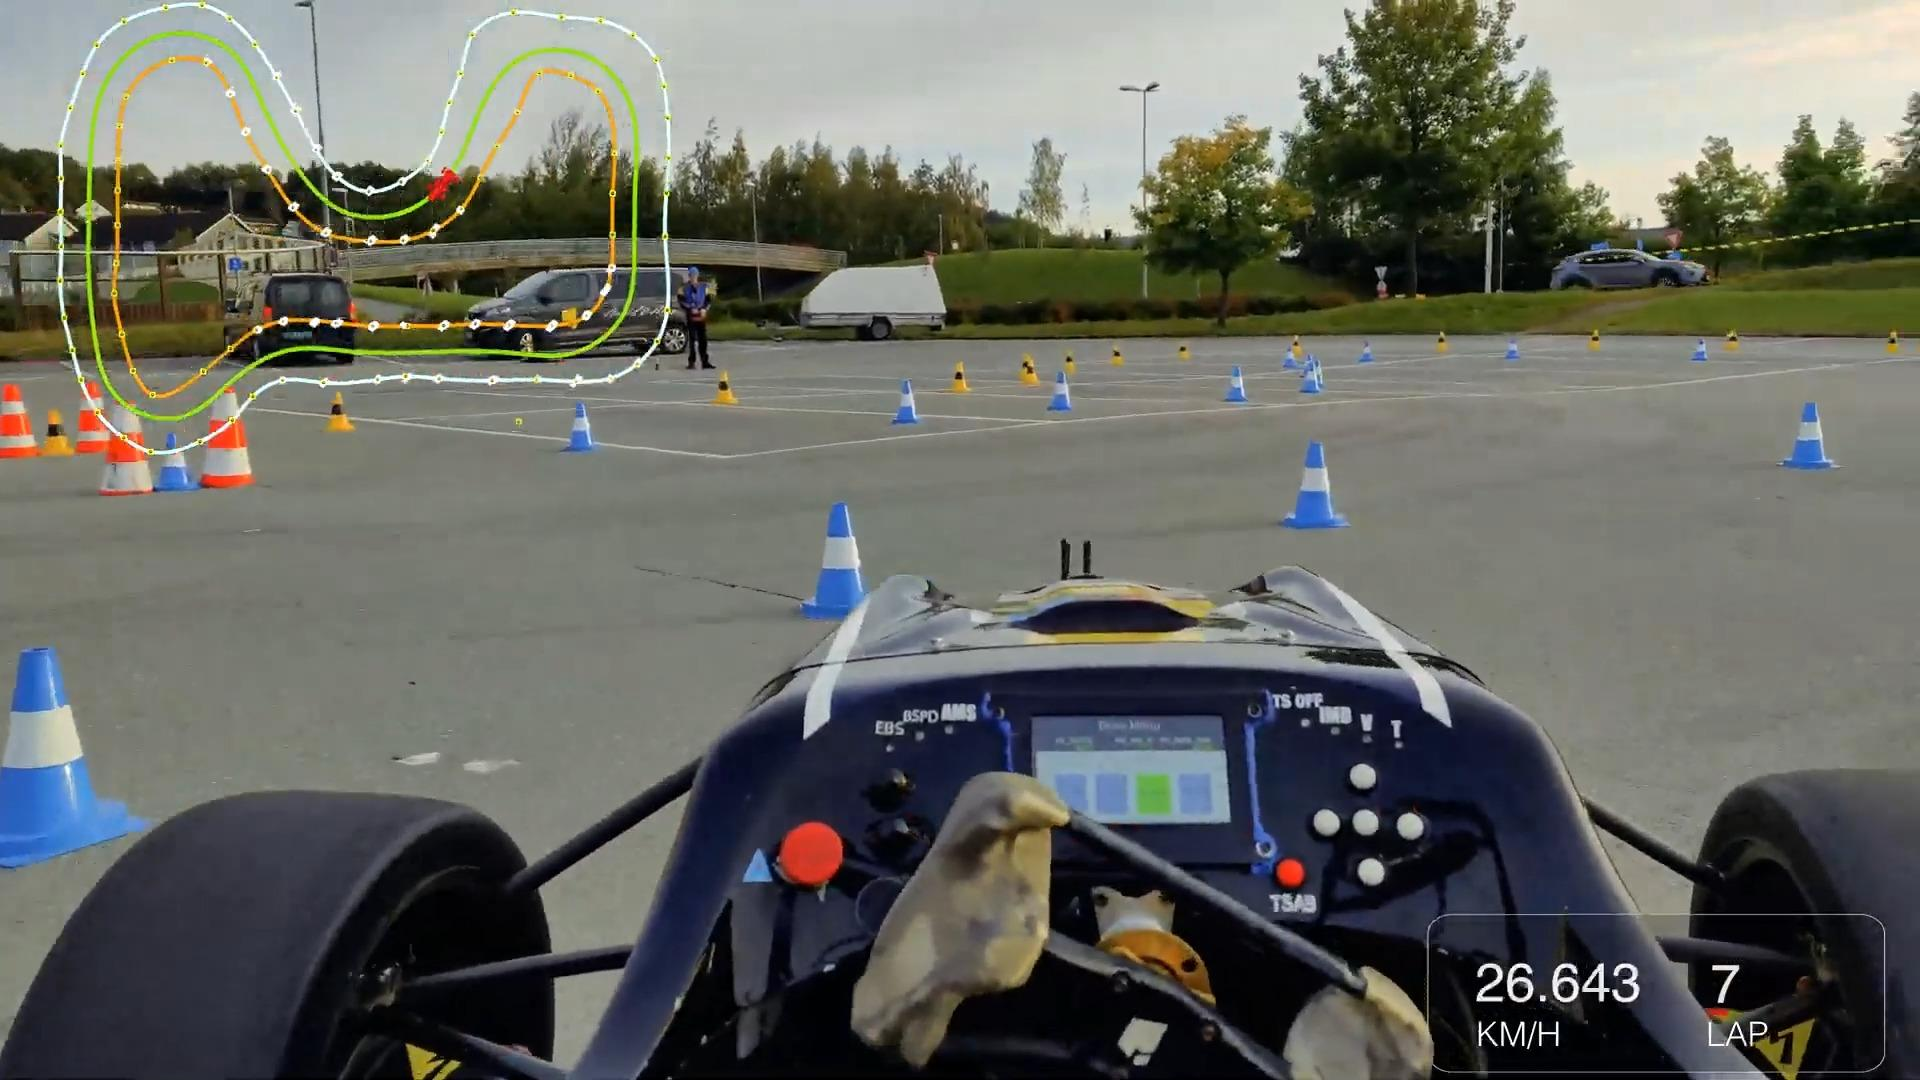blue_cone: (0, 607, 150, 881), (794, 496, 901, 622), (1276, 433, 1354, 533), (1774, 397, 1846, 473), (149, 429, 200, 495), (556, 400, 596, 455), (890, 377, 924, 425), (1043, 369, 1077, 415), (1221, 364, 1253, 406), (1298, 363, 1320, 396), (1357, 336, 1379, 364), (1279, 343, 1299, 369), (1311, 360, 1328, 389), (1691, 336, 1708, 363), (1505, 336, 1522, 361)
large_orange_cone: (195, 381, 262, 492), (100, 392, 154, 498), (1, 380, 44, 465), (73, 376, 113, 463)
yellow_cone: (40, 409, 80, 459), (323, 388, 356, 435), (709, 371, 741, 409), (944, 357, 976, 396), (1023, 356, 1040, 388), (1015, 352, 1034, 381), (1886, 331, 1903, 356), (1064, 351, 1080, 377), (1724, 330, 1741, 353), (1110, 343, 1127, 367), (1588, 328, 1604, 353), (1435, 331, 1452, 353), (1176, 339, 1191, 360)
